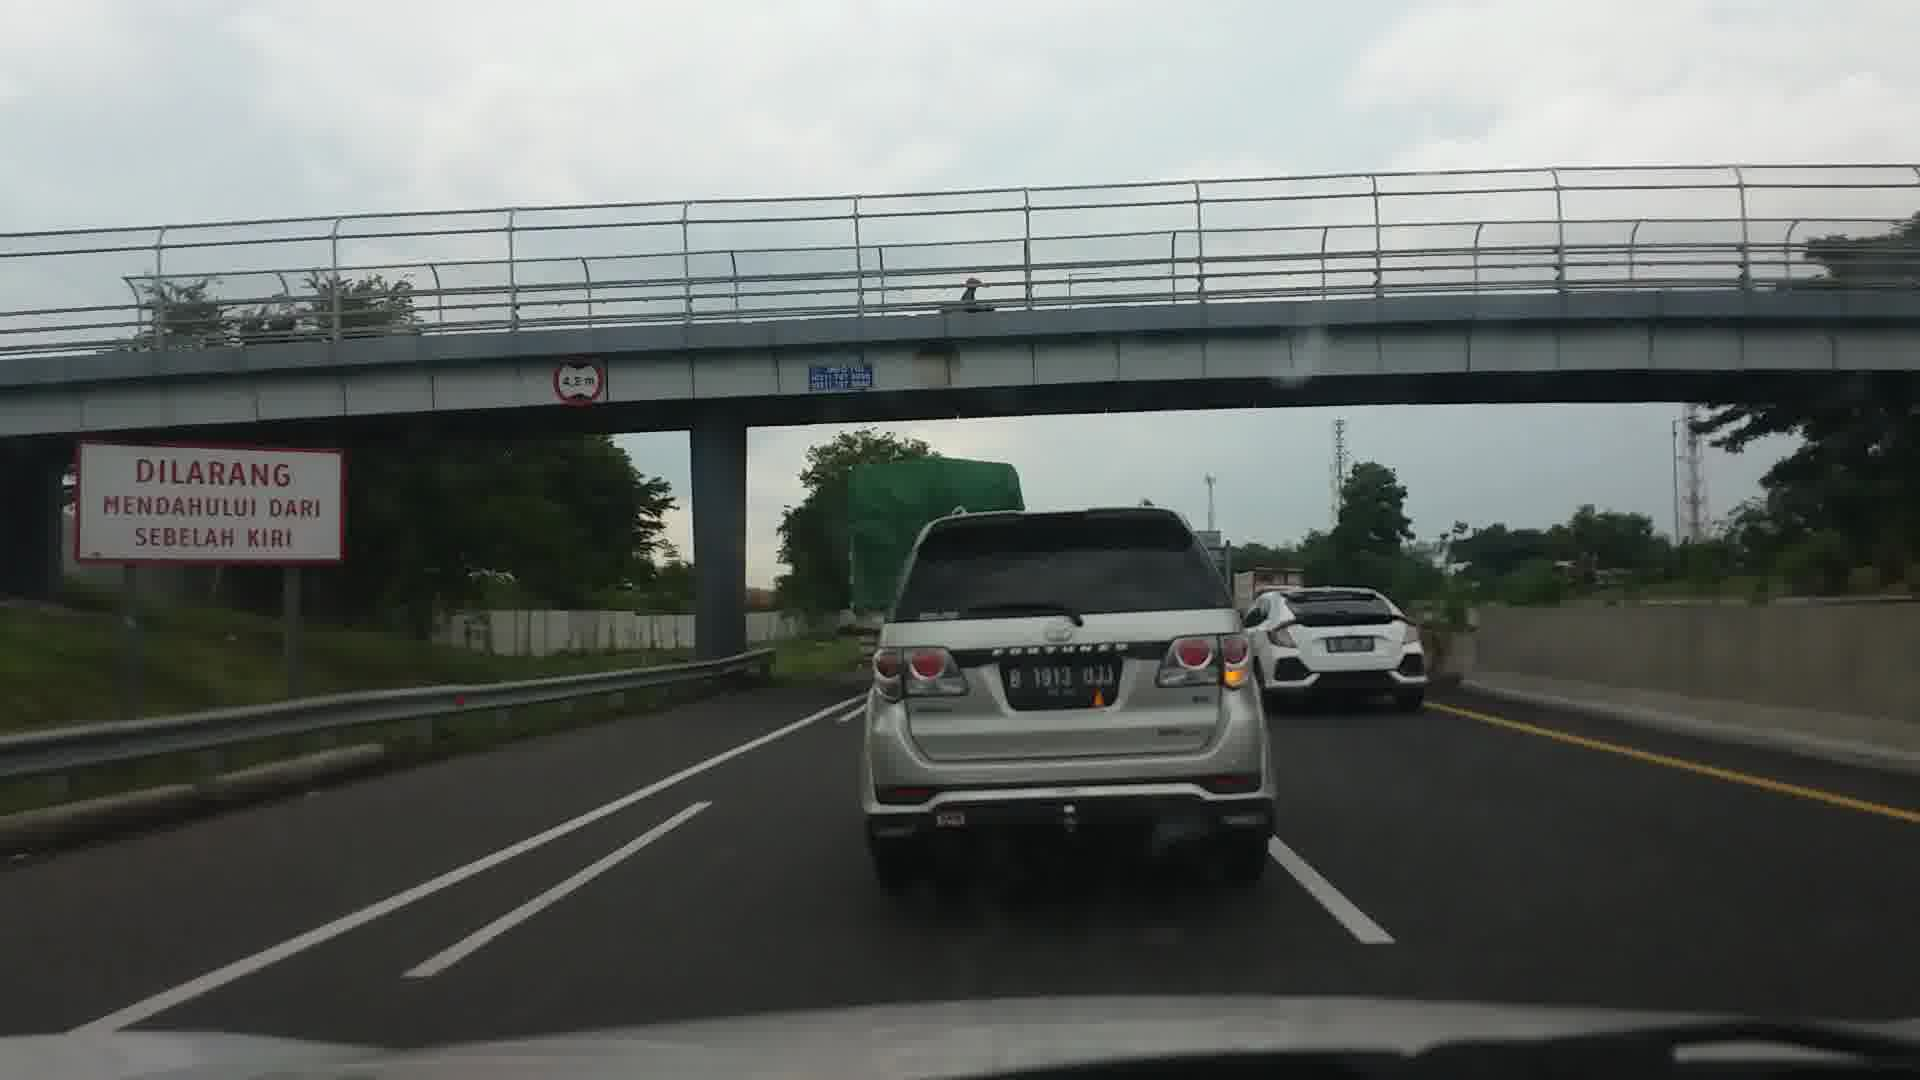plate_positive: (1007, 662, 1116, 698)
